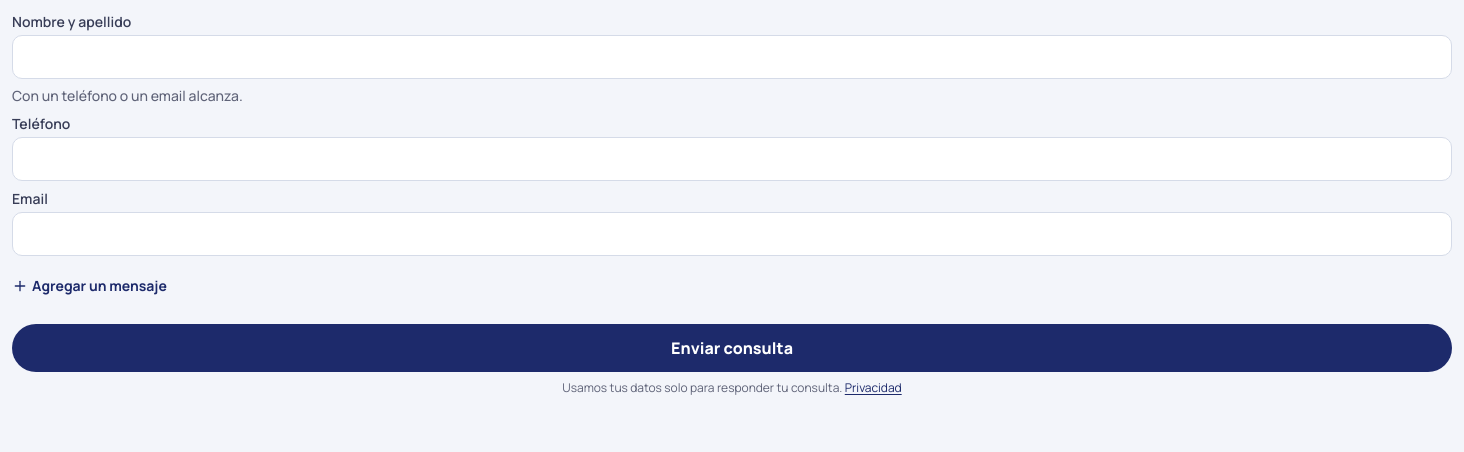
Test case: PropertyInquiryForm message toggle (collapsed on desktop) › opens the message field and moves focus into it
Step 1. Click the button "Agregar un mensaje" → coordinates (89, 286), box [12,264,167,308]
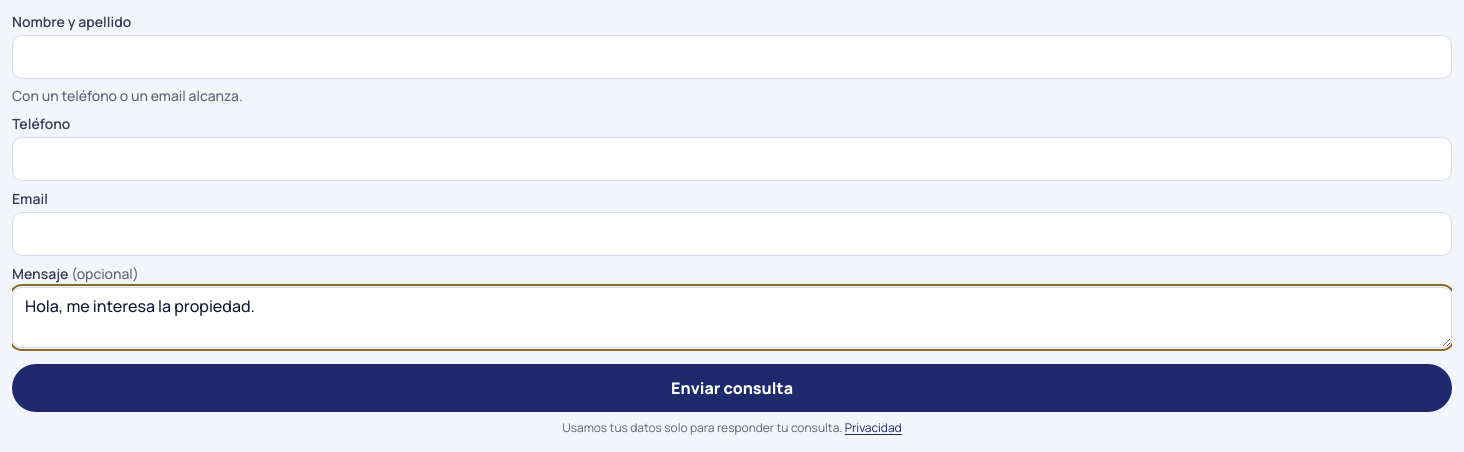
Expected: the button "Agregar un mensaje" is gone
